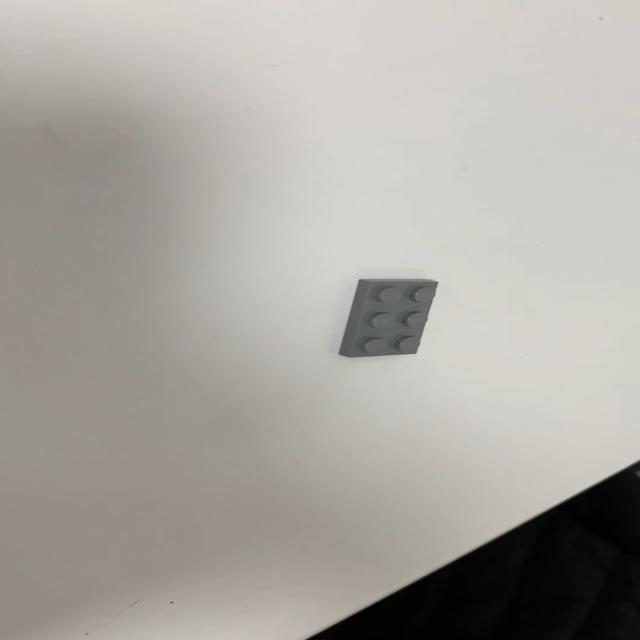C3x2x0: (339, 277, 442, 357)
